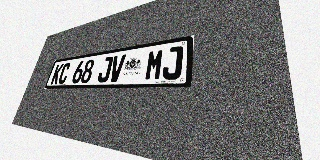6: (71, 60, 86, 84)
8: (80, 59, 96, 83)
C: (57, 63, 71, 84)
J: (161, 45, 183, 80), (96, 56, 114, 83)
K: (50, 64, 64, 84)
M: (144, 48, 165, 81)
V: (108, 54, 126, 82)
